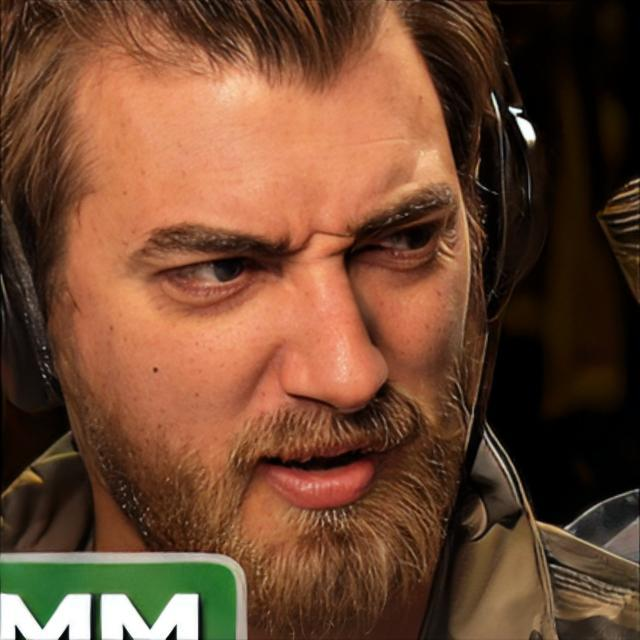anger: (59, 45, 506, 582)
